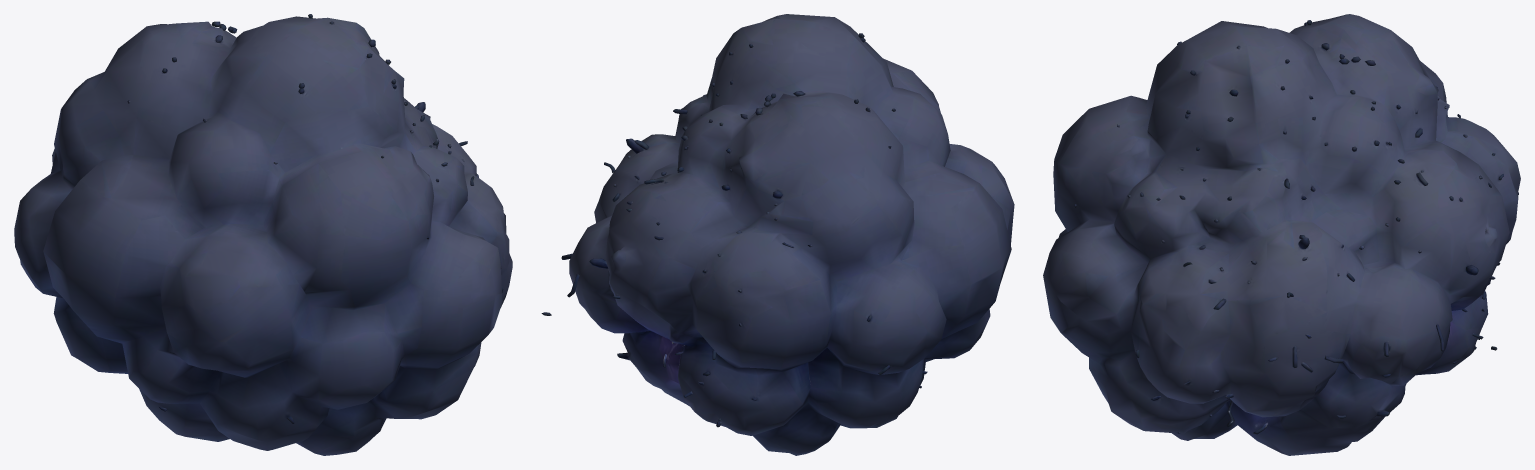
Rendered from storm-cloud.glb.
3 renders of one model, left to right at view 1: azimuth 30°, elevation 25°; view 2: azimuth 150°, elevation 25°; view 3: azimuth 270°, elevation 25°, orthographic. The views are drawn at different scales.
Parts seen in each view (by area): view 1: tripo_node_142a3c63-8343-4a85-a851-4246e2029a67; view 2: tripo_node_142a3c63-8343-4a85-a851-4246e2029a67; view 3: tripo_node_142a3c63-8343-4a85-a851-4246e2029a67.
Part boxes in pixels (x1=…): tripo_node_142a3c63-8343-4a85-a851-4246e2029a67: x1=14, y1=14, x2=512, y2=455; tripo_node_142a3c63-8343-4a85-a851-4246e2029a67: x1=541, y1=14, x2=1014, y2=455; tripo_node_142a3c63-8343-4a85-a851-4246e2029a67: x1=1043, y1=14, x2=1520, y2=455.
Bounding box in the file's own units: 0.9922 × 0.9217 × 1.
1 material, 1 textured.
